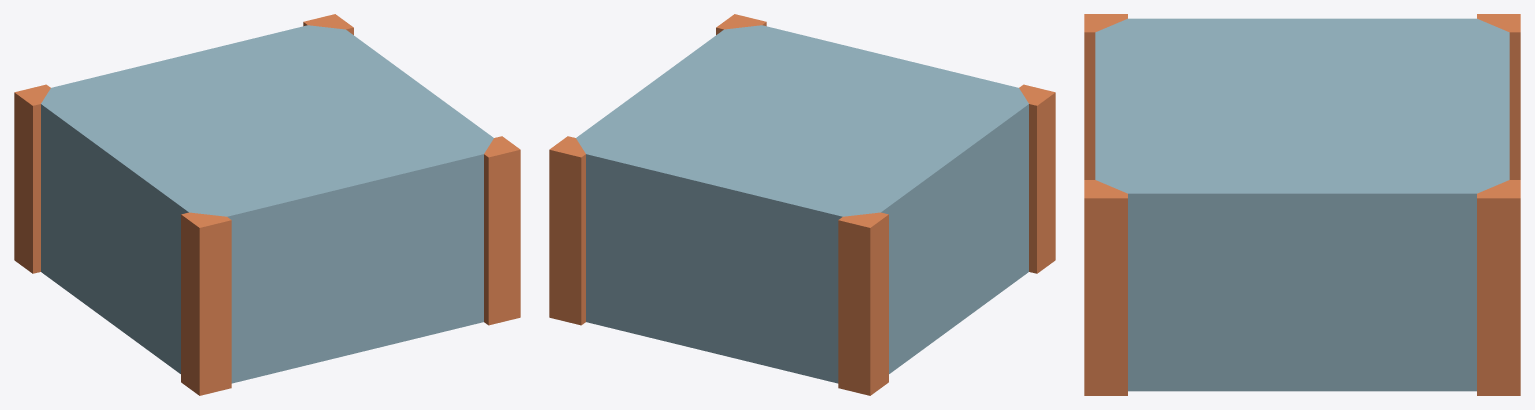
File: wallBlockHalf.obj
3 views of the same model, side by side, from view 1: azimuth 30°, elevation 25°; view 2: azimuth 150°, elevation 25°; view 3: azimuth 270°, elevation 25° (orthographic). The views are drawn at different scales.
Visible parts, largest first — view 1: wallBlockHalf; view 2: wallBlockHalf; view 3: wallBlockHalf.
Boxes of the visible parts, x1=… form: wallBlockHalf: x1=14, y1=14, x2=520, y2=395; wallBlockHalf: x1=549, y1=14, x2=1055, y2=395; wallBlockHalf: x1=1084, y1=14, x2=1520, y2=395.
Size of the model in its own units: 1 by 0.5 by 1.
